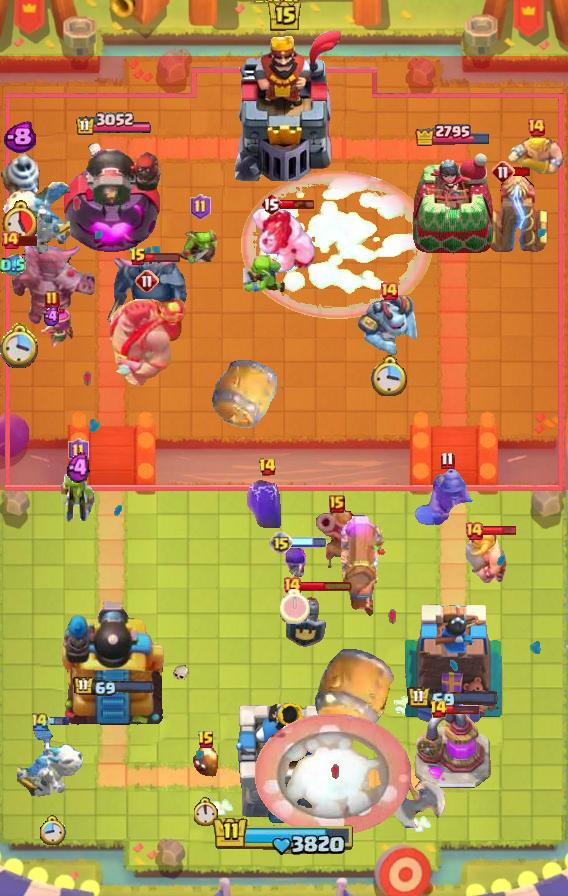archer: (507, 134, 565, 178)
bandit: (413, 462, 481, 528)
battle-healer: (340, 515, 386, 619)
bomb-tower: (316, 504, 358, 574)
bomber: (192, 744, 220, 778)
cannon: (29, 308, 75, 352)
clock: (212, 815, 356, 857)
dirt: (312, 645, 396, 739), (211, 354, 281, 430)
electro-spirit: (3, 122, 36, 154), (67, 452, 90, 484), (0, 254, 26, 278), (42, 306, 62, 327)
elixir: (0, 321, 40, 368), (372, 356, 409, 397), (2, 200, 37, 241), (280, 588, 310, 623), (38, 815, 65, 845), (193, 798, 218, 826)
elixir-golem-small: (357, 291, 421, 357)
emote: (300, 580, 353, 592), (1, 233, 38, 246), (280, 198, 316, 210), (444, 703, 479, 715), (145, 252, 181, 263), (291, 537, 327, 548), (483, 525, 518, 536), (48, 717, 70, 728), (512, 166, 532, 178)
goblin: (284, 543, 309, 579)
goblin-brawler: (483, 169, 551, 255)
goblin-drill: (0, 152, 44, 204)
goblin-giant: (466, 529, 507, 584)
golemite: (0, 238, 96, 324), (107, 255, 191, 329)
king-tower: (223, 31, 345, 181), (235, 703, 333, 826)
lava-hound: (106, 293, 188, 389)
mini-pekka: (0, 178, 70, 260), (17, 717, 87, 799)
pekka: (413, 708, 491, 790)
phoenix-big: (240, 168, 434, 319)
princess: (284, 586, 326, 650)
queen-tower: (402, 599, 507, 731), (410, 152, 496, 256)
rage: (251, 207, 317, 275)
royal-giant: (392, 764, 446, 828)
selected: (407, 686, 499, 711), (75, 112, 153, 137), (414, 122, 492, 146), (73, 676, 155, 698)
spear-goblin: (247, 478, 287, 528)
text: (491, 160, 515, 184), (135, 269, 159, 293), (269, 531, 293, 555), (67, 438, 89, 464), (190, 194, 211, 220), (260, 192, 282, 216), (30, 712, 50, 733), (526, 117, 546, 137), (0, 230, 20, 250), (379, 281, 399, 301), (258, 457, 278, 477), (464, 521, 484, 541), (282, 576, 302, 596), (429, 699, 448, 719), (129, 247, 147, 267), (197, 730, 215, 750), (44, 290, 60, 310), (329, 495, 345, 513), (440, 451, 455, 469)
tower-bar: (58, 595, 170, 731), (62, 138, 166, 256)
wall-breaker: (256, 712, 412, 835)
zap: (59, 467, 97, 525), (239, 249, 287, 294), (178, 224, 222, 266)
